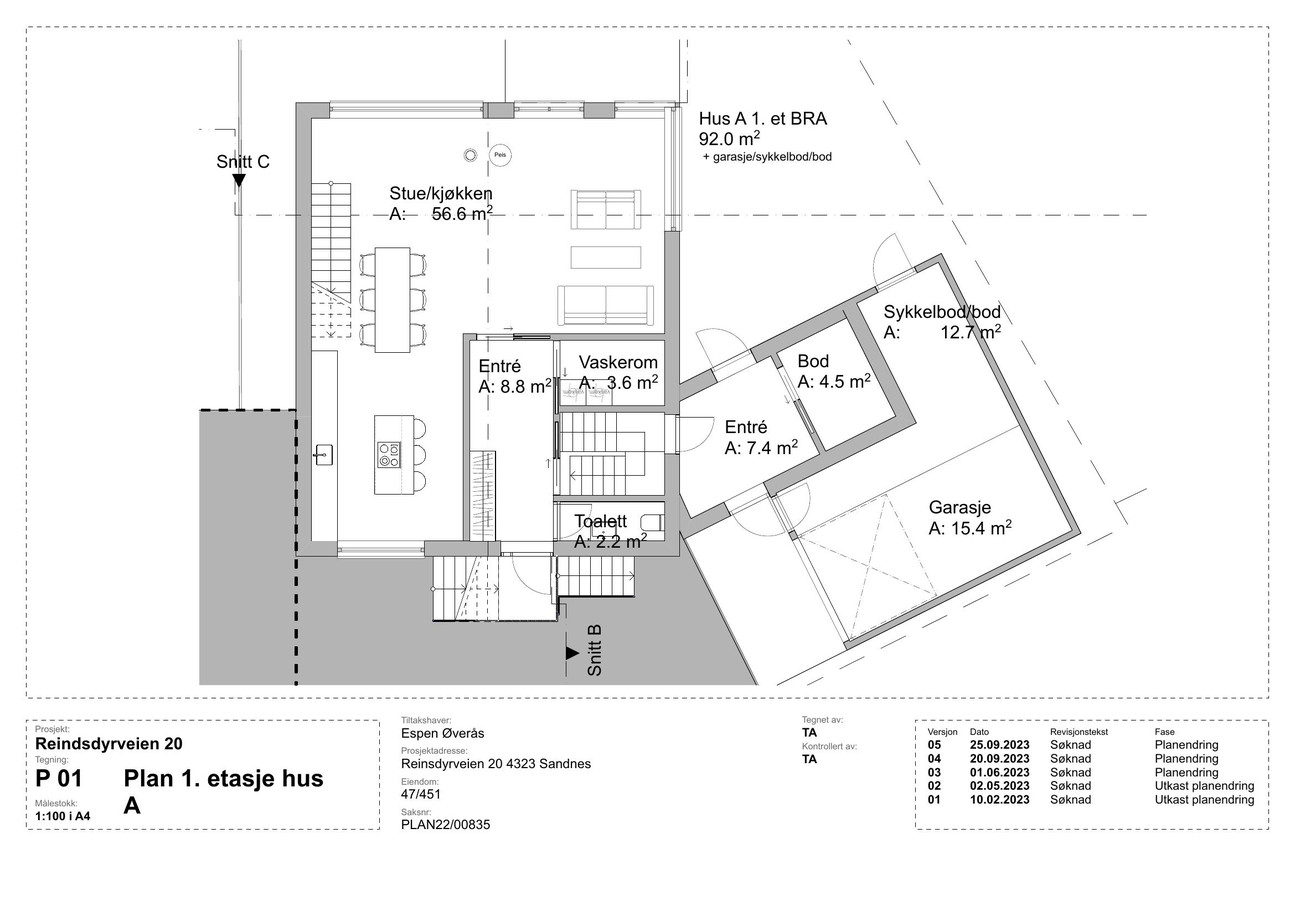plantegning: (199, 96, 1086, 686)
